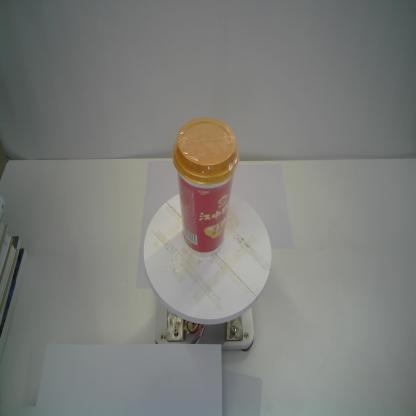Instant Drink: (172, 116, 240, 258)
